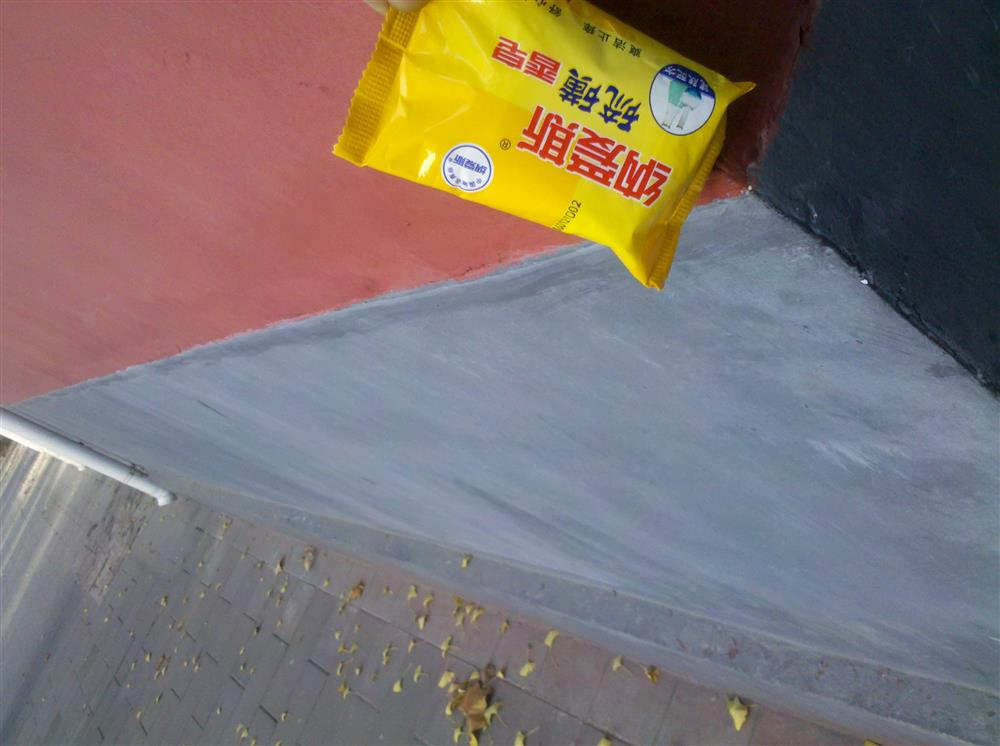nice_soap: (331, 1, 759, 296)
